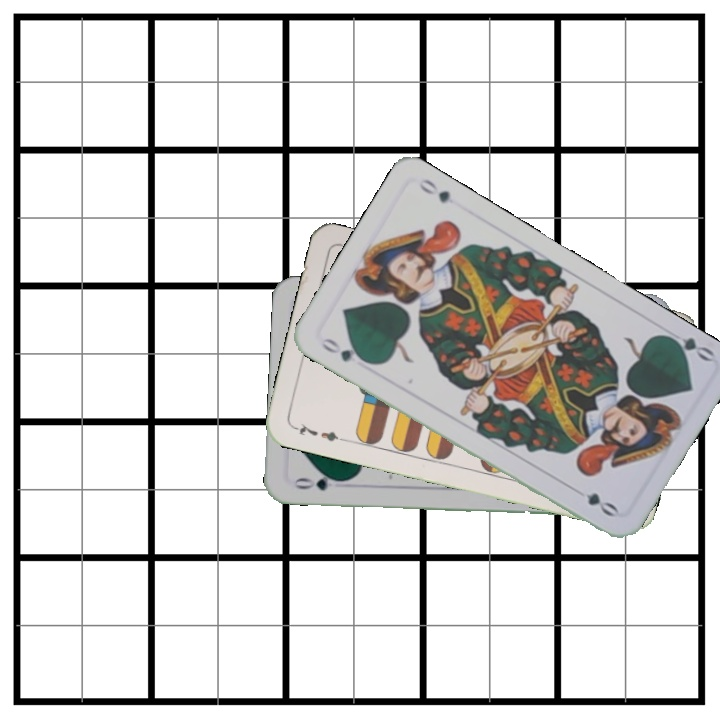E7: (289, 419, 347, 445)
GO: (659, 330, 717, 364), (317, 333, 371, 366), (290, 470, 347, 494)
